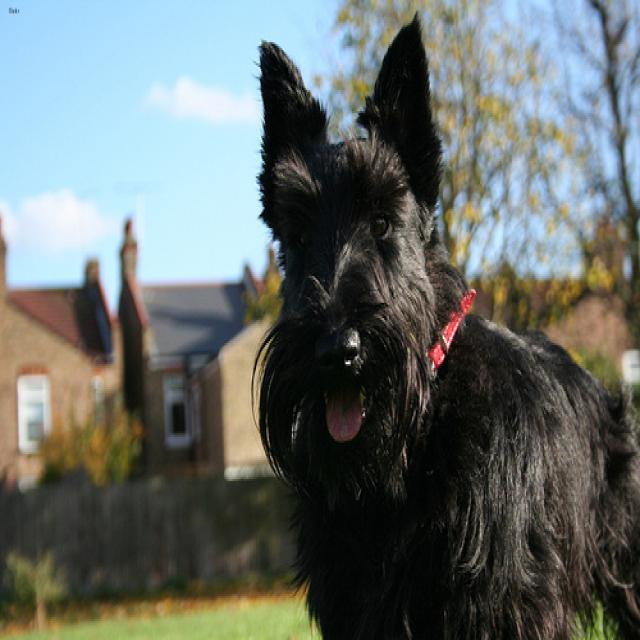dog-scottish_terrier: (241, 4, 637, 636)
